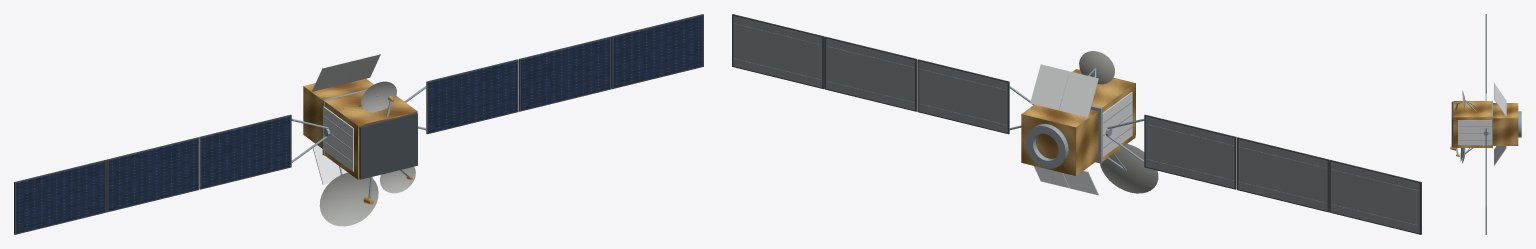
Rendered from ref-spacebus-3000b2-25049.glb.
The picture shows the model from 3 angles, left to right: view 1: azimuth 30°, elevation 25°; view 2: azimuth 150°, elevation 25°; view 3: azimuth 270°, elevation 25°; orthographic projection. The views are drawn at different scales.
Visible parts, largest first — view 1: Solar cell panel (×6), Communications reflector (×3), Solar panel frame (×6), Earth-facing deck, Payload module, Deployed radiator leaf (×3), Service module, Radiator face; view 2: Rear array substrate (×6), Solar panel frame (×6), Service module, Deployed radiator leaf (×4), Communications reflector (×2), Radiator face, Payload module, Launch adapter ring; view 3: Service module, Payload module, Radiator face, Solar panel frame (×6), Deployed radiator leaf (×3), Earth-facing deck, Launch adapter ring, Module interface, Radiator seam.
Part boxes in pixels (x1,y1,x2,y2): Solar cell panel (×6): (16, 16, 702, 233); Communications reflector (×3): (319, 81, 415, 226); Solar panel frame (×6): (14, 14, 703, 234); Earth-facing deck: (359, 112, 417, 179); Payload module: (324, 91, 417, 179); Deployed radiator leaf (×3): (312, 53, 380, 184); Service module: (303, 79, 373, 148); Radiator face: (323, 106, 353, 171); Rear array substrate (×6): (733, 16, 1419, 233); Solar panel frame (×6): (732, 14, 1421, 234); Service module: (1021, 104, 1098, 175); Deployed radiator leaf (×4): (1030, 64, 1098, 195); Communications reflector (×2): (1079, 51, 1158, 193); Radiator face: (1102, 92, 1132, 157); Payload module: (1063, 69, 1135, 161); Launch adapter ring: (1026, 124, 1068, 168); Service module: (1493, 103, 1518, 145); Payload module: (1453, 101, 1491, 147); Radiator face: (1458, 120, 1491, 145); Solar panel frame (×6): (1485, 14, 1486, 234); Deployed radiator leaf (×3): (1494, 83, 1506, 165); Earth-facing deck: (1451, 101, 1453, 147); Launch adapter ring: (1518, 111, 1521, 137); Module interface: (1491, 100, 1492, 148); Radiator seam: (1459, 125, 1490, 126).
Size of the model in its own units: 28.96 by 5.45 by 4.58.
8 materials, 2 textured.
